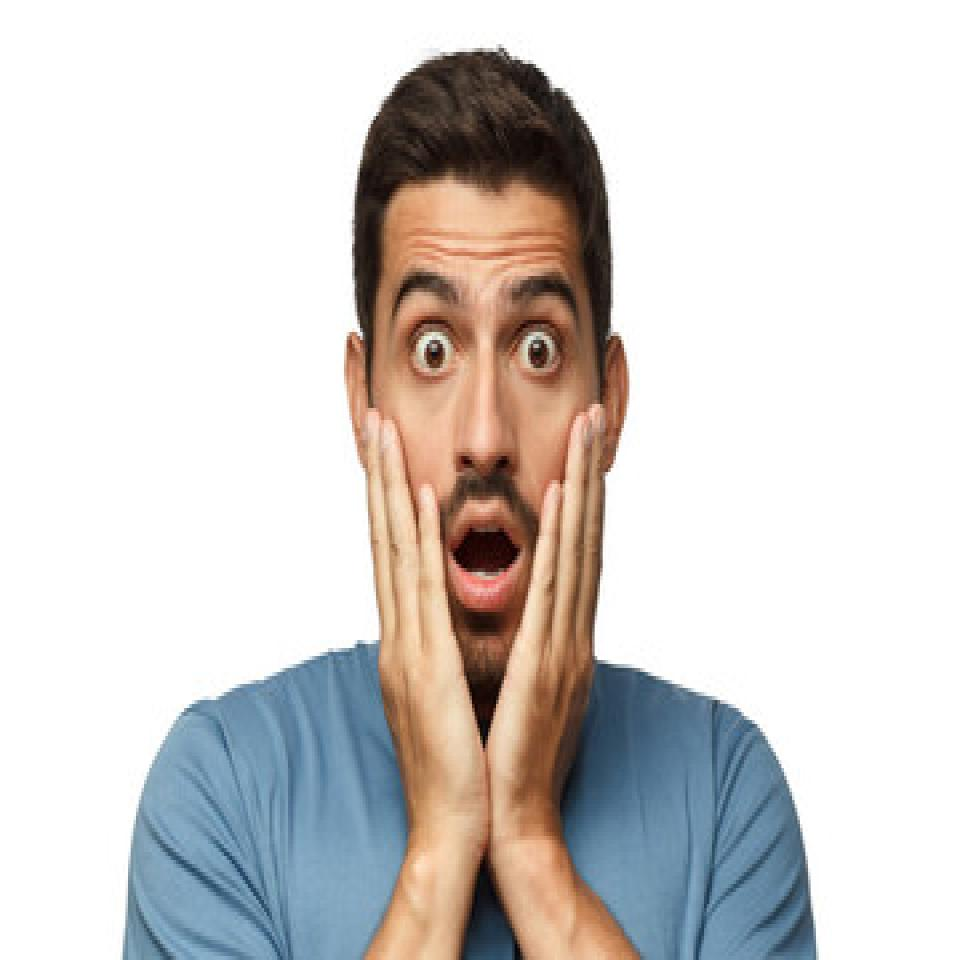Scared: (346, 166, 627, 670)
